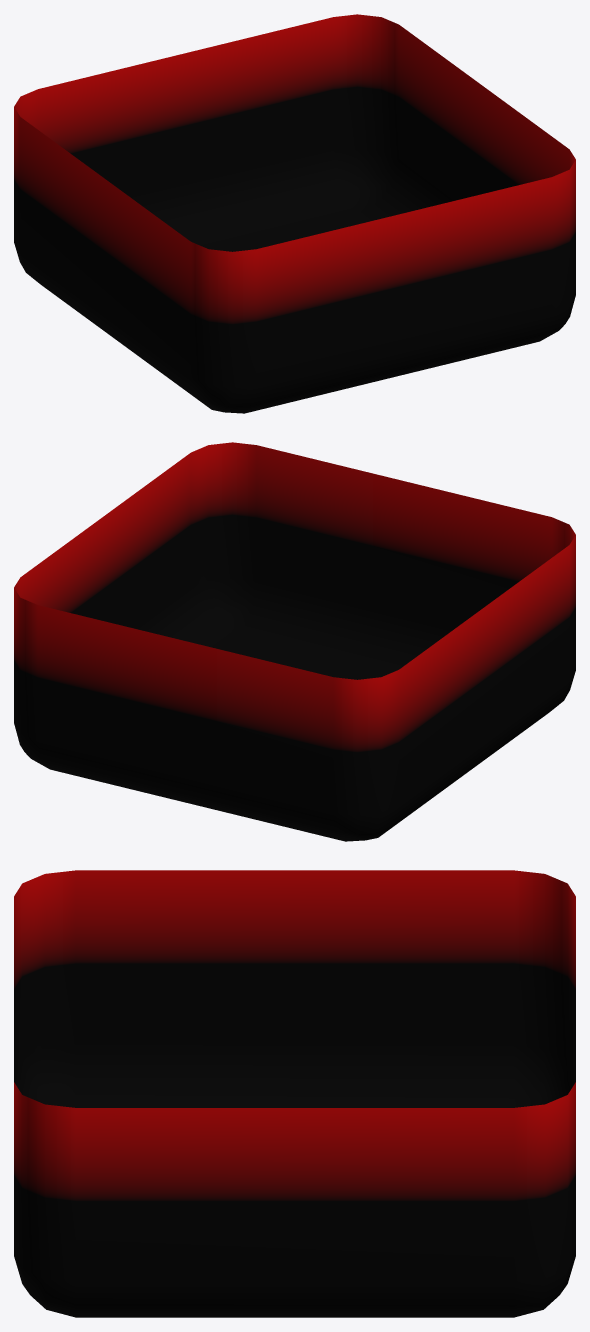
The model's file is SM_Tutorial_box_01.fbx.
3 views of the same model, one above another, from view 1: azimuth 30°, elevation 25°; view 2: azimuth 150°, elevation 25°; view 3: azimuth 270°, elevation 25° (orthographic). The views are drawn at different scales.
Parts seen in each view (by area): view 1: SM_Tutorial_box_01; view 2: SM_Tutorial_box_01; view 3: SM_Tutorial_box_01.
Part boxes in pixels (x1,y1,x2,y2): SM_Tutorial_box_01: [14, 14, 575, 413]; SM_Tutorial_box_01: [14, 442, 575, 841]; SM_Tutorial_box_01: [14, 870, 575, 1317].
Size of the model in its own units: 15.16 by 6.85 by 15.16.
